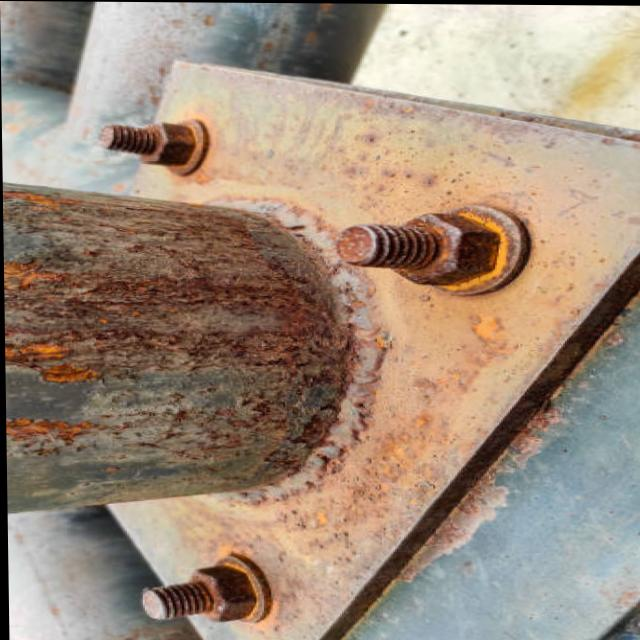Rusty bolt: (353, 213, 494, 286), (138, 564, 257, 623), (101, 122, 194, 166)
